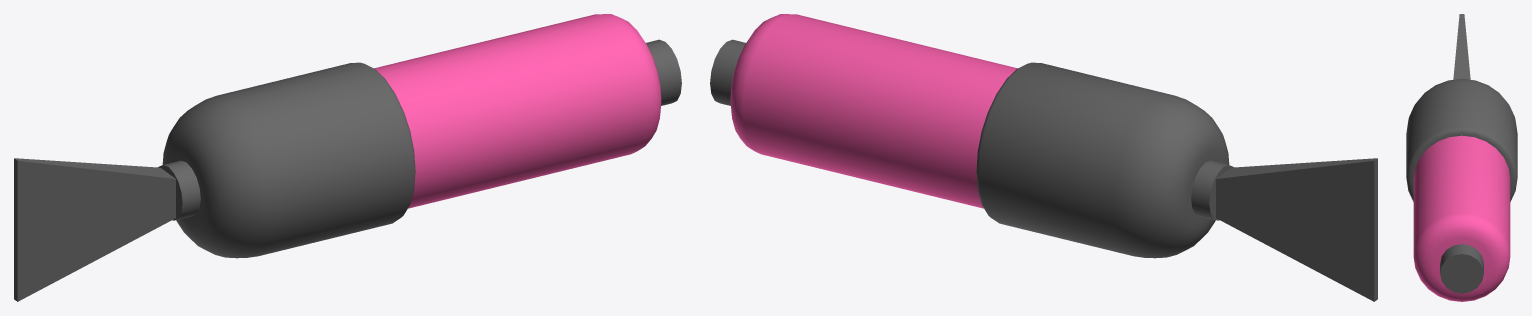
File: DecorMachine_Cake_SideTool.FBX
3 renders of one model, left to right at view 1: azimuth 30°, elevation 25°; view 2: azimuth 150°, elevation 25°; view 3: azimuth 270°, elevation 25°, orthographic. The views are drawn at different scales.
Visible parts, largest first — view 1: DecorMachine_Cake_SideTool; view 2: DecorMachine_Cake_SideTool; view 3: DecorMachine_Cake_SideTool.
Part boxes in pixels (x1,y1,x2,y2): DecorMachine_Cake_SideTool: (14,14,681,301); DecorMachine_Cake_SideTool: (710,14,1377,301); DecorMachine_Cake_SideTool: (1406,14,1517,301).
Bounding box in the file's own units: 3659 × 809 × 809.
